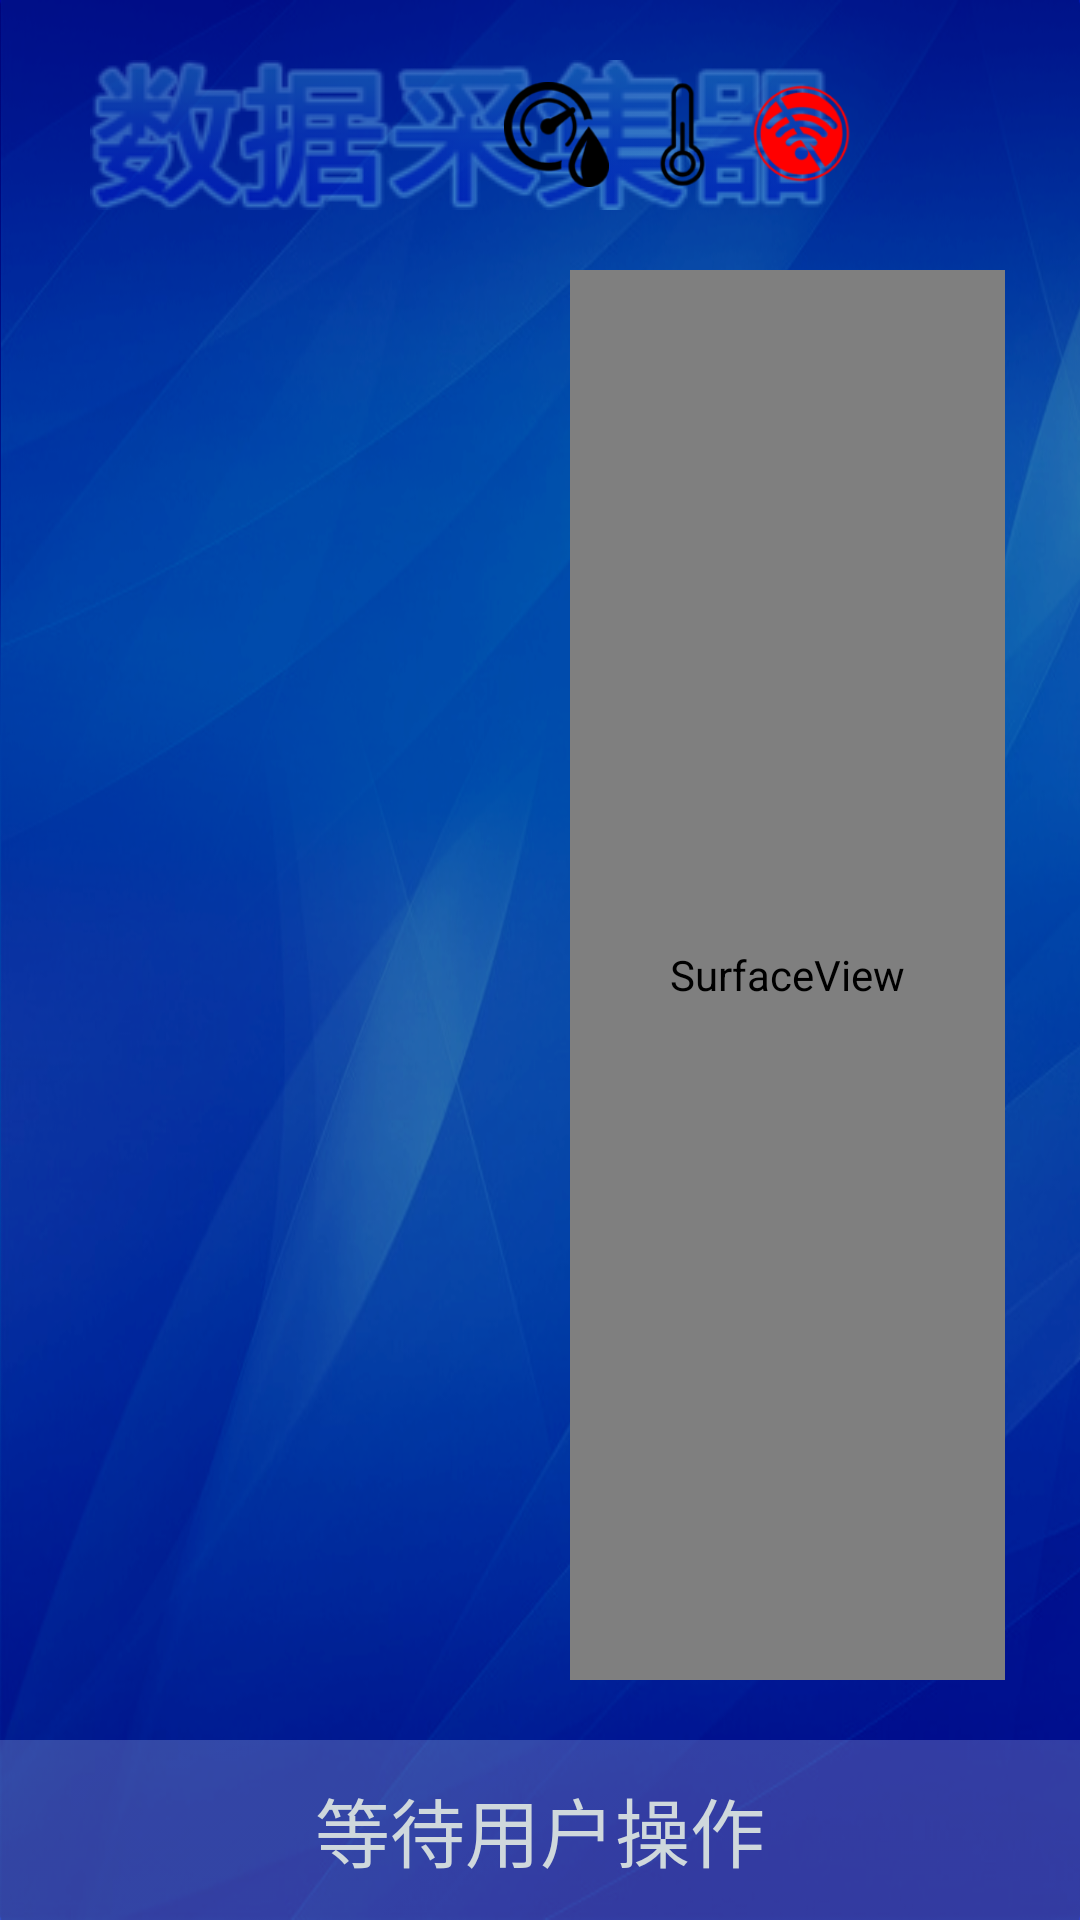

Icon click points for this 1080*1920 phone screenshot, format (x=x, y=y):
humidity: (x=556, y=134)
non wifi: (x=802, y=134)
temperature: (x=682, y=134)
